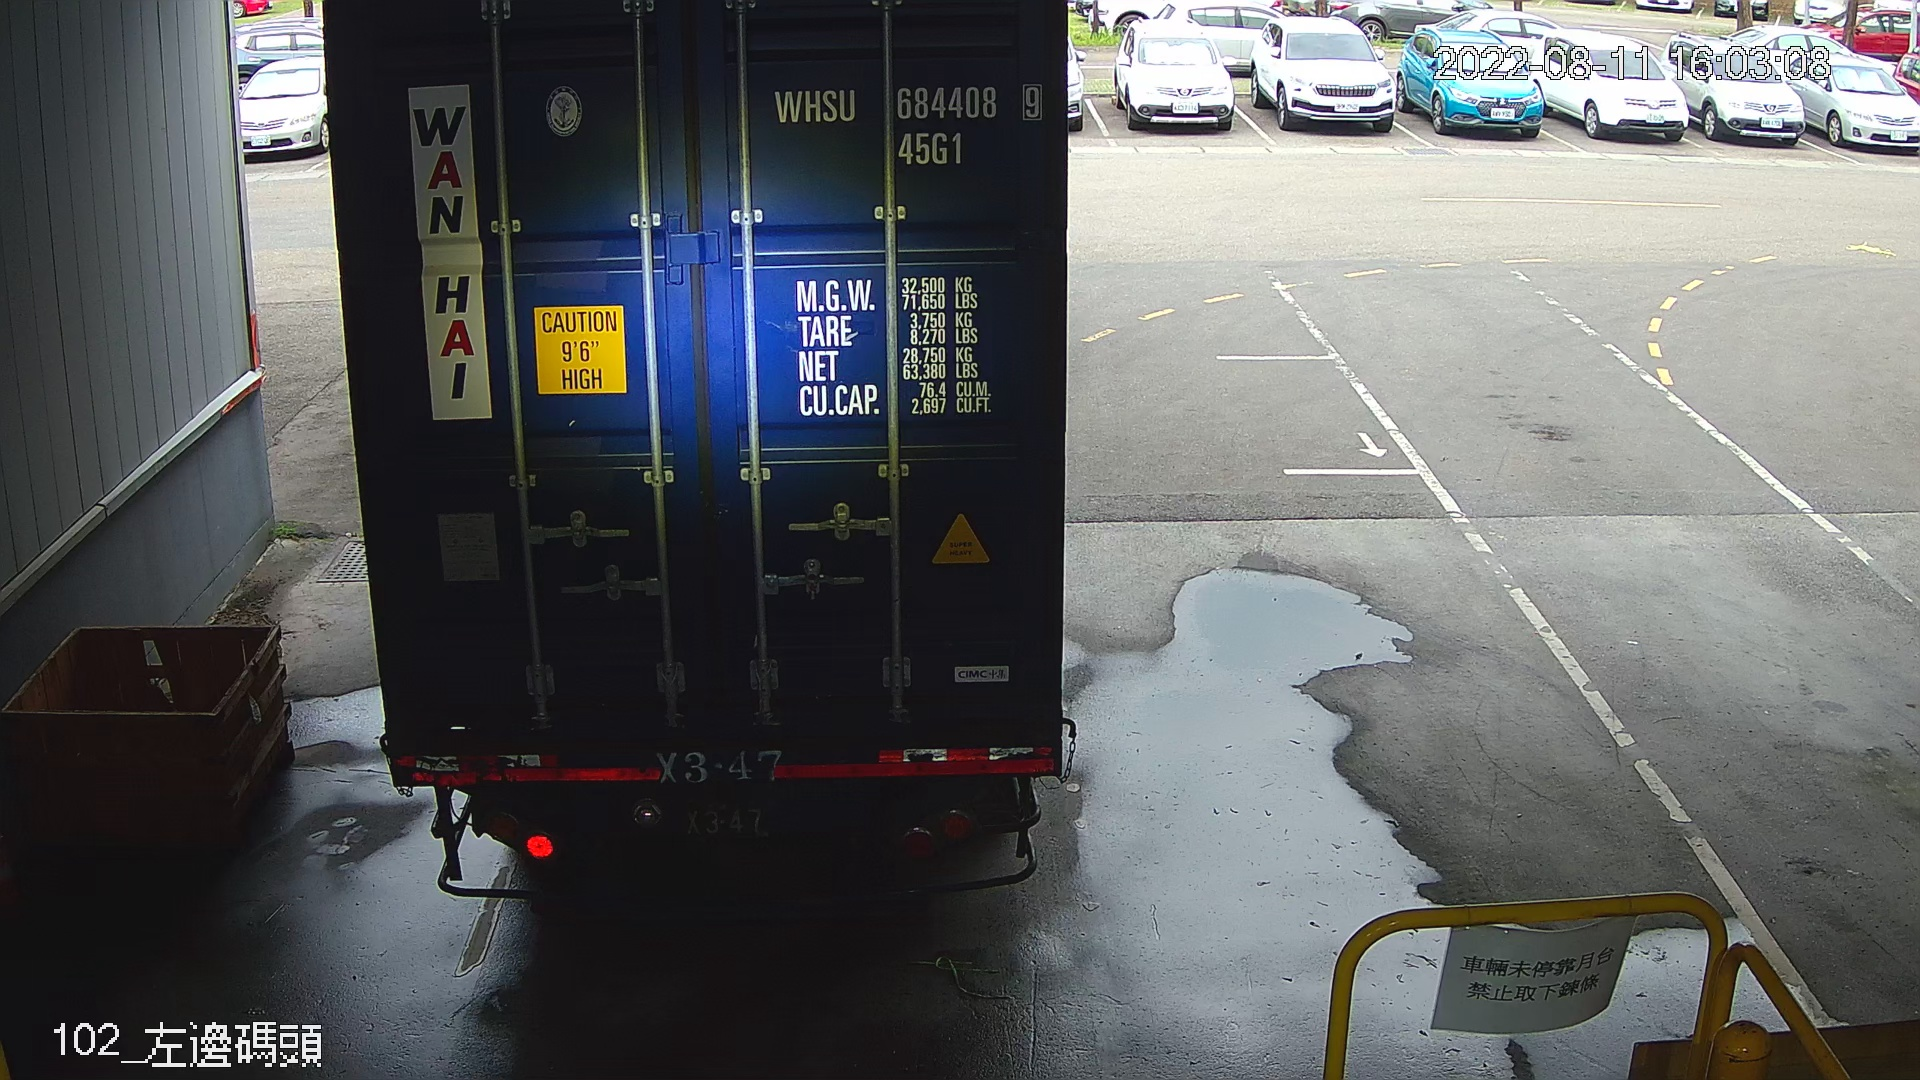container: (764, 76, 1048, 173)
